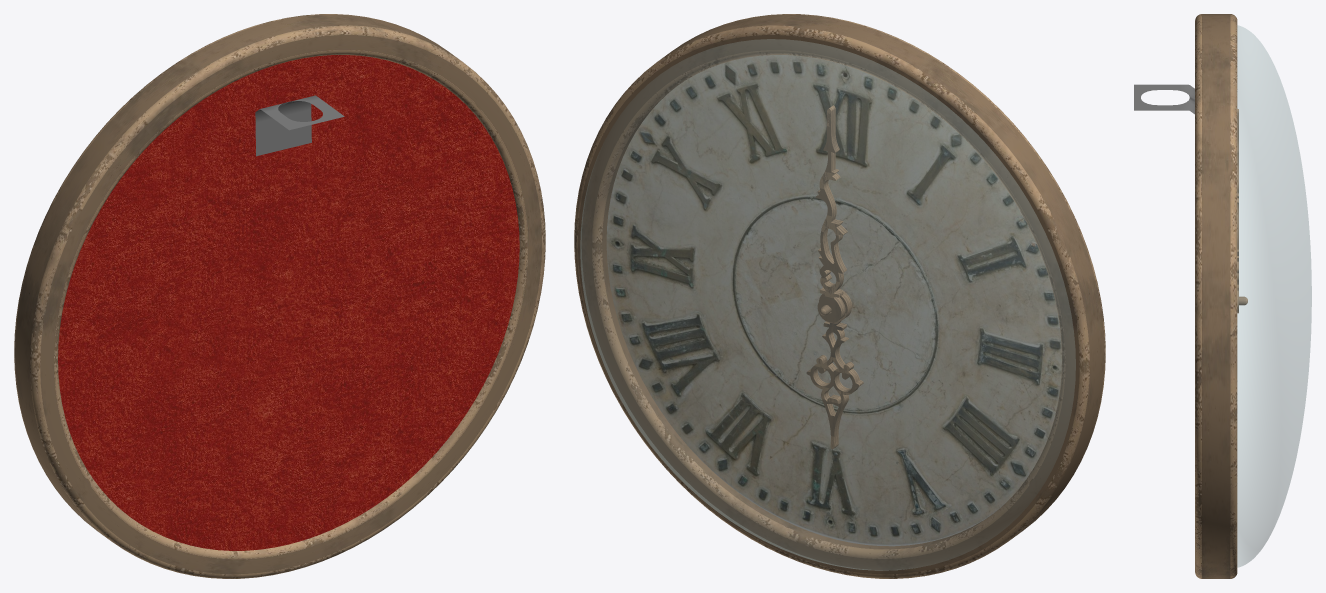
The model's file is round.glb.
The picture shows the model from 3 angles, left to right: view 1: azimuth 30°, elevation 25°; view 2: azimuth 150°, elevation 25°; view 3: azimuth 270°, elevation 25°; orthographic projection. The views are drawn at different scales.
Parts seen in each view (by area): view 1: Tapa_Trasera, borde_reloj, gancho_posterior; view 2: cristal, Cara_Relj, borde_reloj, Aguja_Minutos, Aguja_Horas; view 3: cristal, borde_reloj, gancho_posterior, Aguja_Minutos.
Part boxes in pixels (x1,y1,x2,y2): Tapa_Trasera: [58, 55, 519, 550]; borde_reloj: [14, 14, 545, 578]; gancho_posterior: [255, 95, 344, 156]; cristal: [580, 39, 1075, 570]; Cara_Relj: [606, 55, 1061, 546]; borde_reloj: [574, 14, 1105, 578]; Aguja_Minutos: [815, 105, 847, 322]; Aguja_Horas: [806, 288, 863, 449]; cristal: [1237, 25, 1311, 567]; borde_reloj: [1195, 14, 1237, 578]; gancho_posterior: [1134, 84, 1194, 114]; Aguja_Minutos: [1237, 109, 1238, 313].
Size of the model in its own units: 400 by 400 by 126.
5 materials, 3 textured.
